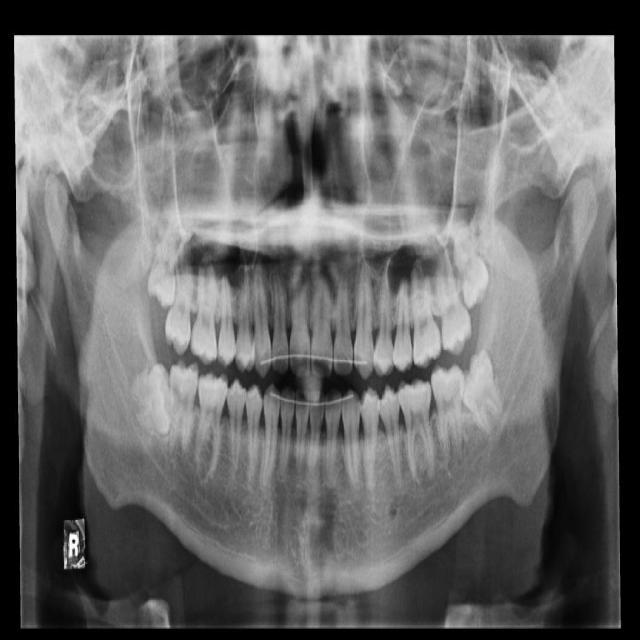3M ESPE Implant: (145, 204, 186, 311)
73: (586, 591, 601, 610)
BioHorizons Implant: (432, 236, 474, 358)
BioLife Implant: (445, 218, 497, 311)
Biomet 3i Implant: (450, 348, 509, 441)
Blue Sky Bio Implant: (430, 362, 466, 462)
Caries: (163, 233, 196, 356)
Implant: (168, 358, 198, 459)
Keystone Dental Implant: (122, 361, 186, 442)
